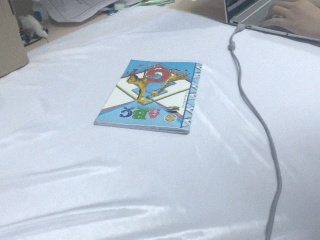book: (94, 58, 204, 135)
box: (1, 2, 29, 86)
